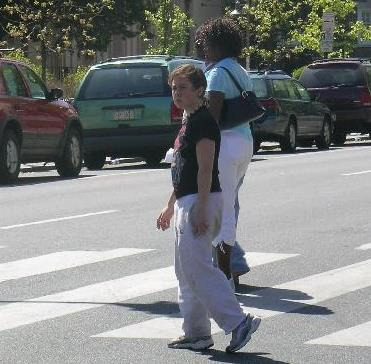deflection: (162, 67, 222, 170)
